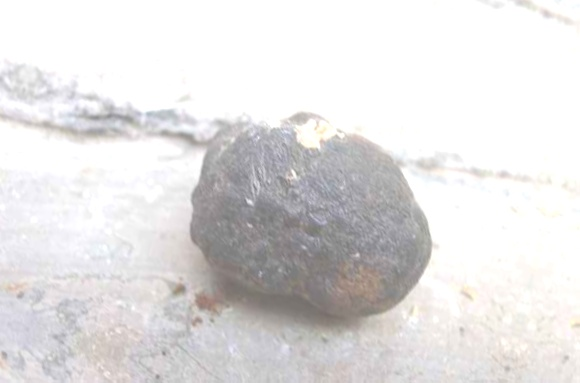halobolite: (168, 84, 467, 348)
